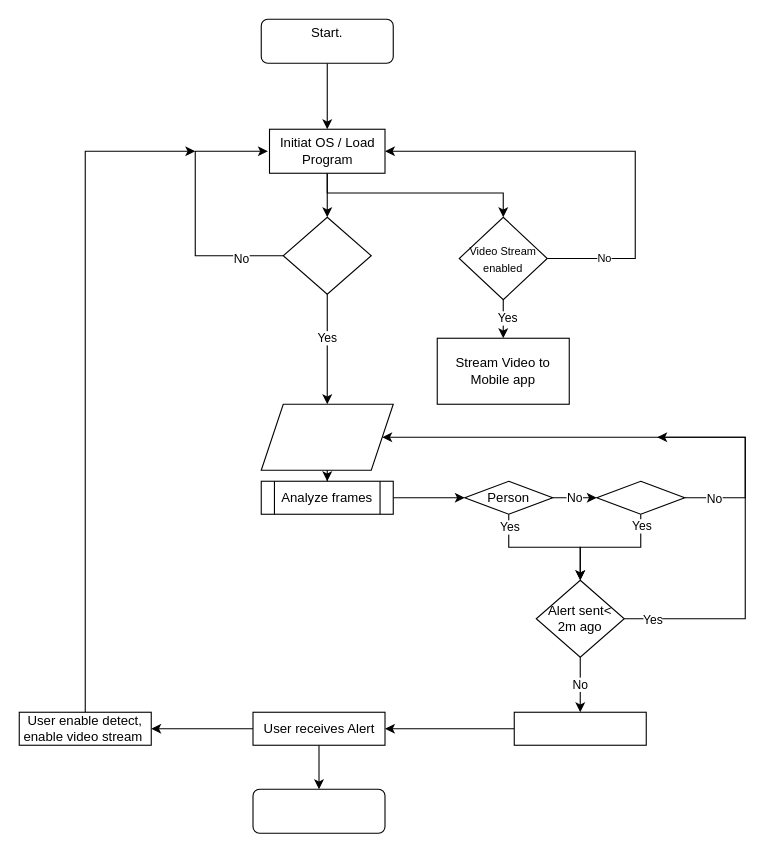
Image size: 773x853. Some labels were removed from this diagram. Each missing label, with the centre of its shape:
"Detect enabled" goes at [326,255].
"End" goes at [318,810].
"Get Video Frames" goes at [326,436].
"GSM sends text message" goes at [579,728].
"Vehicle" goes at [640,497].
